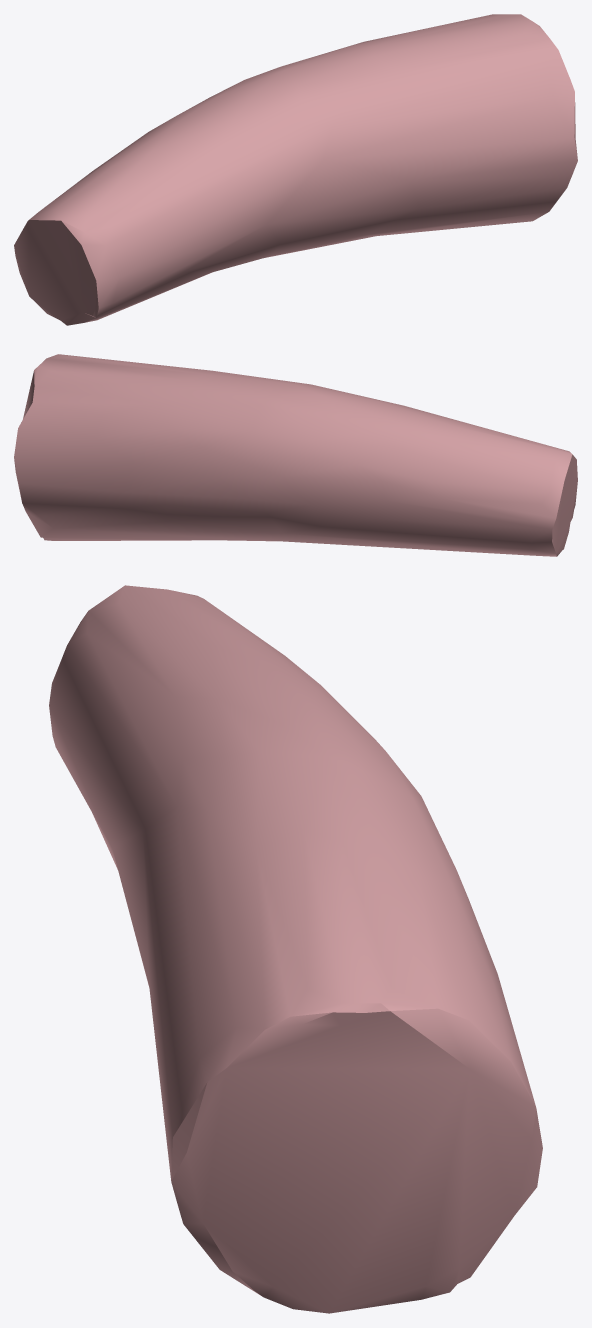
The model's file is fma68216_fj6577.glb.
3 renders of one model, top to bottom at view 1: azimuth 30°, elevation 25°; view 2: azimuth 150°, elevation 25°; view 3: azimuth 270°, elevation 25°, orthographic. The views are drawn at different scales.
Visible parts, largest first — view 1: FMA68216_FJ6577; view 2: FMA68216_FJ6577; view 3: FMA68216_FJ6577.
Boxes of the visible parts, bbox=[...] form: FMA68216_FJ6577: bbox=[14, 14, 577, 325]; FMA68216_FJ6577: bbox=[14, 354, 577, 556]; FMA68216_FJ6577: bbox=[49, 585, 542, 1313].
Size of the model in its own units: 0.0105 by 0.0037 by 0.00461.
